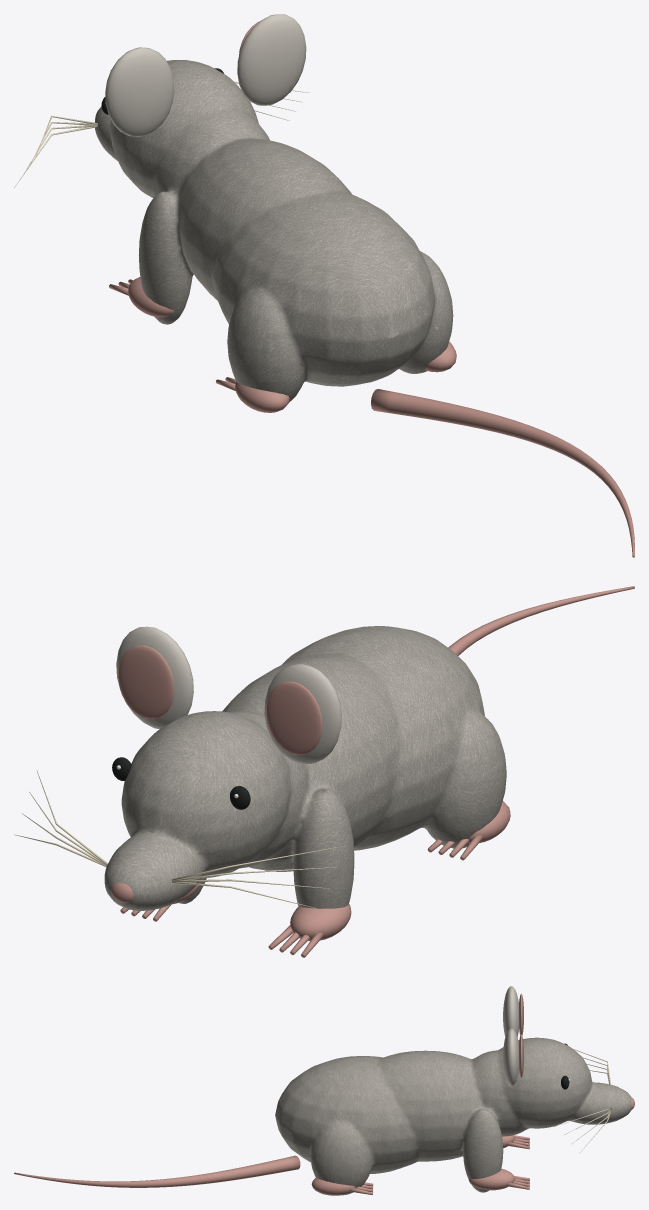
Rendered from house_mouse.glb.
3 views of the same model, one above another, from view 1: azimuth 30°, elevation 25°; view 2: azimuth 150°, elevation 25°; view 3: azimuth 270°, elevation 25° (orthographic). The views are drawn at different scales.
Visible parts, largest first — view 1: ContinuousFurredBody, OuterEar.001, OuterEar, TaperedTail, HindPawL, ForePawL; view 2: ContinuousFurredBody, RecessedPinkEar, RecessedPinkEar.001, OuterEar, OuterEar.001, ForePawL, TaperedTail, HindPawL; view 3: ContinuousFurredBody, TaperedTail, OuterEar.001, OuterEar, ForePawR, HindPawR.
Part boxes in pixels (left/top/right/bottom): ContinuousFurredBody: left=95, top=60, right=453, bottom=402; OuterEar.001: left=237, top=14, right=306, bottom=105; OuterEar: left=105, top=47, right=174, bottom=136; TaperedTail: left=371, top=389, right=634, bottom=557; HindPawL: left=235, top=381, right=289, bottom=412; ForePawL: left=128, top=277, right=174, bottom=317; ContinuousFurredBody: left=104, top=626, right=506, bottom=910; RecessedPinkEar: left=266, top=681, right=322, bottom=755; RecessedPinkEar.001: left=118, top=645, right=174, bottom=719; OuterEar: left=264, top=664, right=341, bottom=764; OuterEar.001: left=116, top=626, right=193, bottom=728; ForePawL: left=290, top=904, right=351, bottom=940; TaperedTail: left=448, top=586, right=634, bottom=655; HindPawL: left=468, top=801, right=510, bottom=843; ContinuousFurredBody: left=275, top=1037, right=631, bottom=1195; TaperedTail: left=14, top=1155, right=300, bottom=1187; OuterEar.001: left=503, top=1028, right=518, bottom=1086; OuterEar: left=503, top=986, right=518, bottom=1037; ForePawR: left=468, top=1168, right=514, bottom=1190; HindPawR: left=311, top=1178, right=356, bottom=1195.
Bounding box in the file's own units: 0.1421 × 0.1277 × 0.4398.
6 materials, 1 textured.
